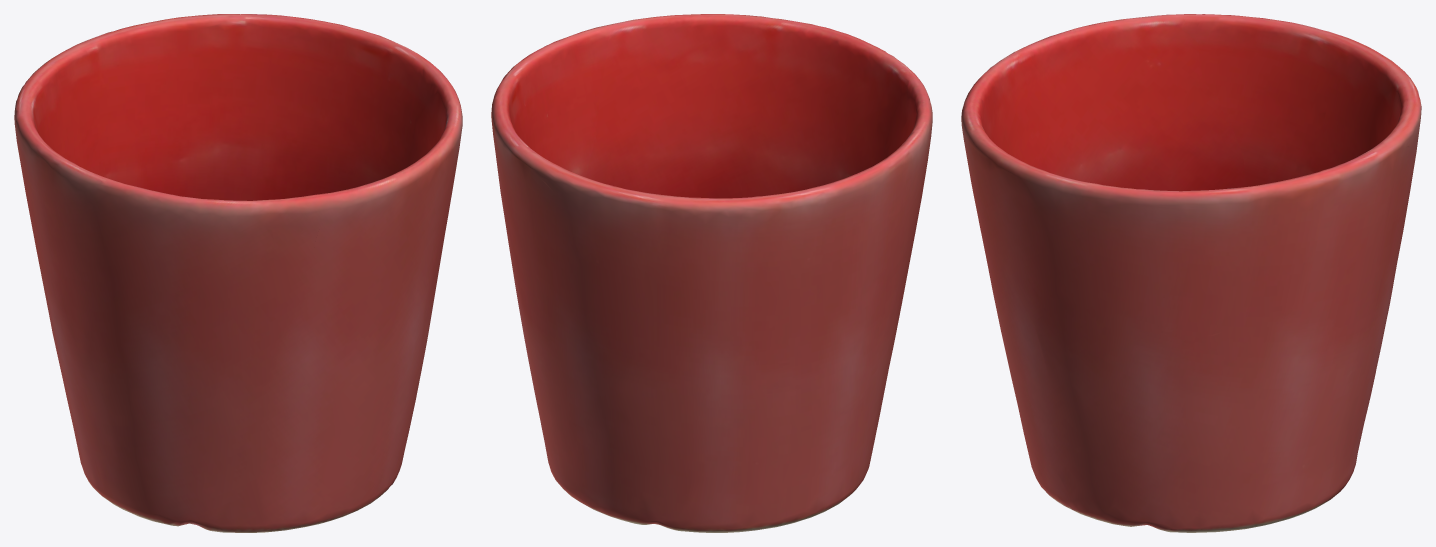
Rendered from Sapota_Threshold_4_Ceramic_Round_Planter_Red.glb.
The picture shows the model from 3 angles, left to right: view 1: azimuth 30°, elevation 25°; view 2: azimuth 150°, elevation 25°; view 3: azimuth 270°, elevation 25°; orthographic projection.
Visible parts, largest first — view 1: model.obj; view 2: model.obj; view 3: model.obj.
Part boxes in pixels (x1=…): model.obj: x1=14, y1=14, x2=462, y2=532; model.obj: x1=491, y1=14, x2=932, y2=532; model.obj: x1=961, y1=14, x2=1421, y2=532.
Bounding box in the file's own units: 0.9675 × 0.8867 × 1.
Materials: 1 (1 with a texture image).
